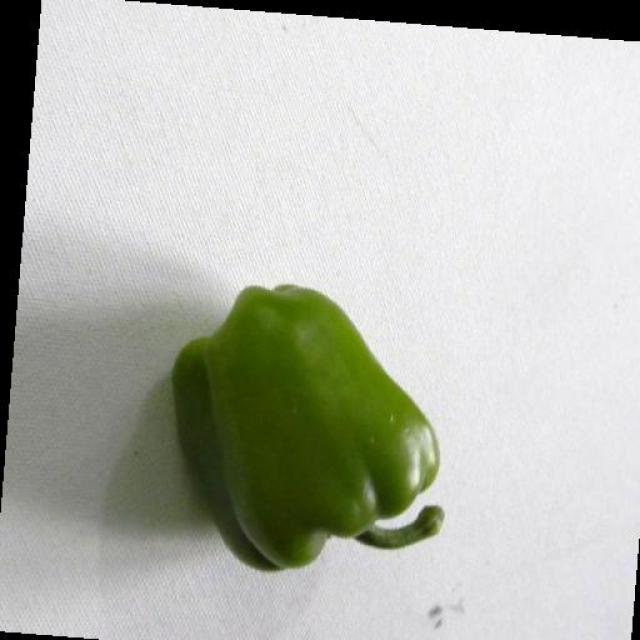Fresh_Capsicum: (147, 288, 454, 582)
